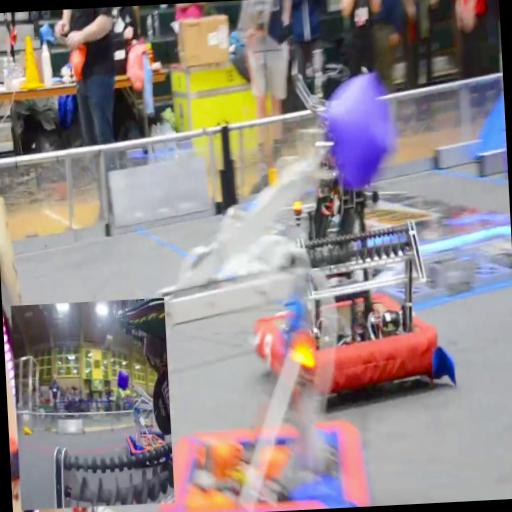robot: (228, 232, 454, 430)
